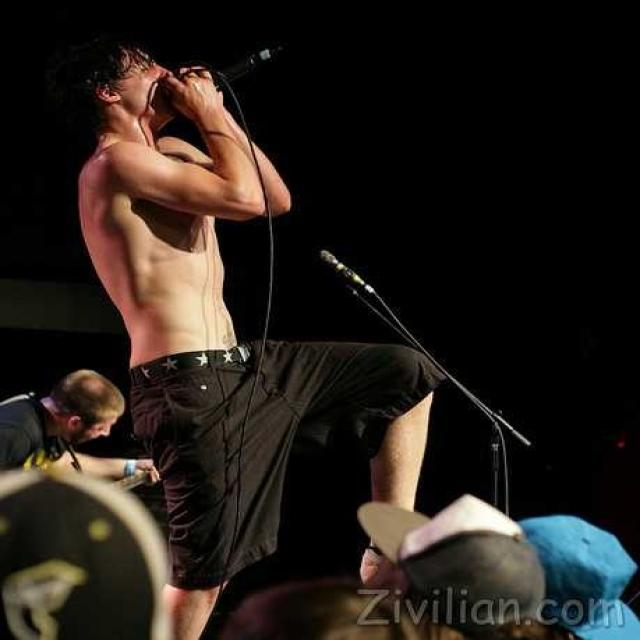microphone: (167, 40, 285, 106), (315, 242, 386, 308)
